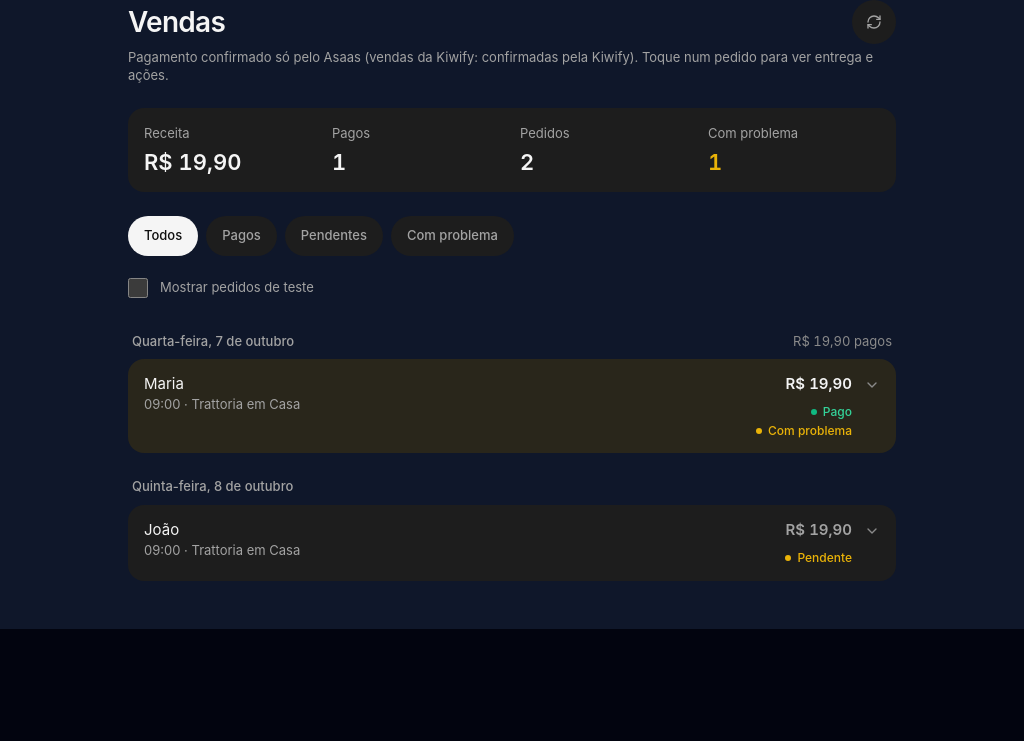
NORQVA-0026 — tela Vendas › lista os pedidos com pagamento, entrega e resumo
Check: the text "Maria" is shown, box top-left (144, 374), bottom-right (184, 393)
Click the button "Maria 09:00 · Trattoria em Casa R$ 19,90 Pago Com problema".
click(164, 384)  # box top-left (128, 359), bottom-right (896, 453)
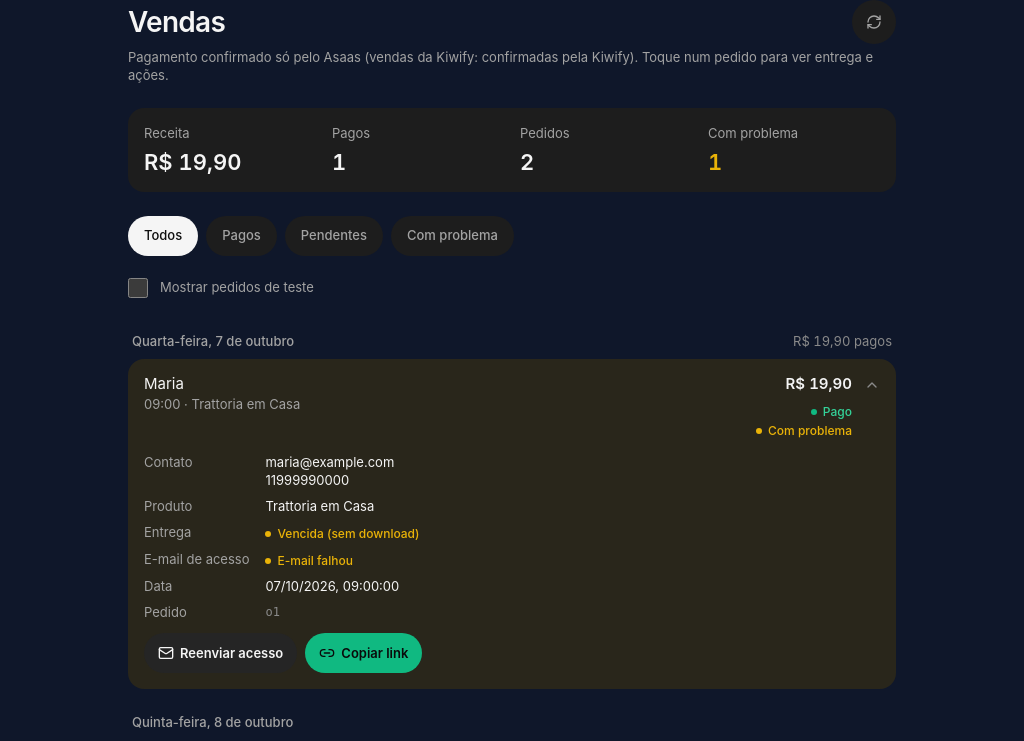
Check: the element with test id "sales-summary" shows "Com problema", box top-left (708, 125), bottom-right (798, 141)
Check: the element with test id "sales-delivery" shows "Vencida", box top-left (278, 526), bottom-right (420, 541)
Check: the text "E-mail falhou" is shown, box top-left (266, 553), bottom-right (353, 569)
